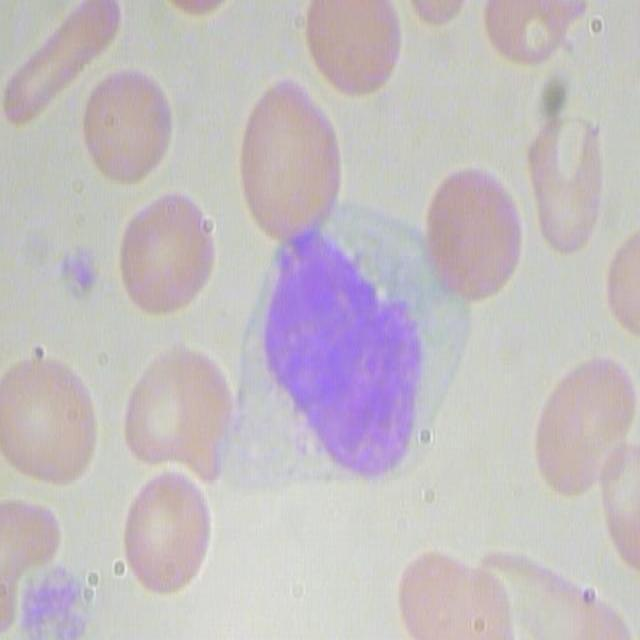RBC: (233, 78, 344, 240), (493, 518, 634, 640), (119, 344, 232, 486), (422, 161, 524, 303), (527, 359, 632, 496), (0, 354, 98, 488), (117, 188, 214, 316), (120, 466, 214, 594), (523, 108, 604, 256), (15, 17, 132, 118), (391, 544, 510, 638), (80, 70, 175, 184), (308, 1, 404, 102), (478, 0, 579, 72), (7, 485, 47, 634), (598, 435, 640, 571), (605, 224, 640, 338), (161, 3, 249, 29)
WBC: (253, 219, 430, 496)
platelets: (54, 248, 99, 300)
